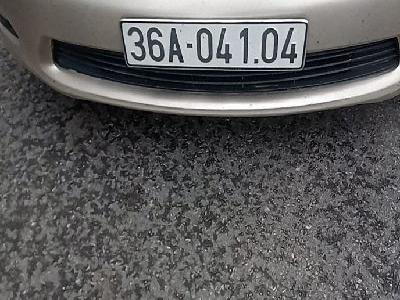number: (119, 17, 306, 72)
